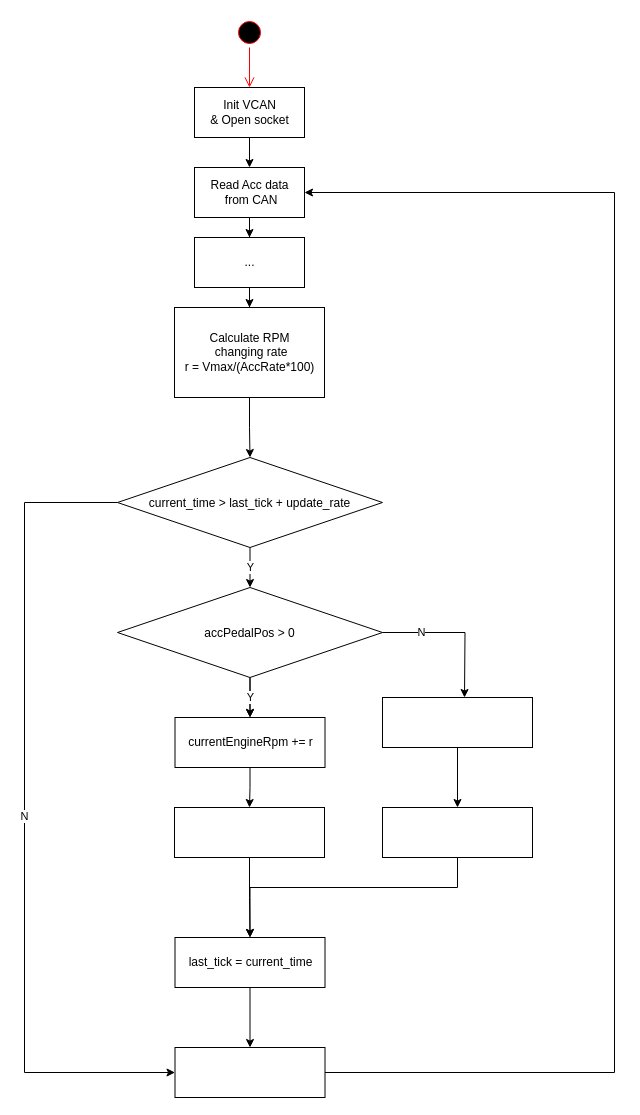
This 640x1115 diagram has some shape labels left out. The shapes that lost their labels are listed below. From the top down, each one's centre as x and y in pixels, then its label:
the point at 457,722: currentEngineRpm -= r
the point at 249,832: check if over MAX_SPD then = MAX_SPD
the point at 457,832: check if below 0 then = 0
the point at 249,1072: Output RPM
